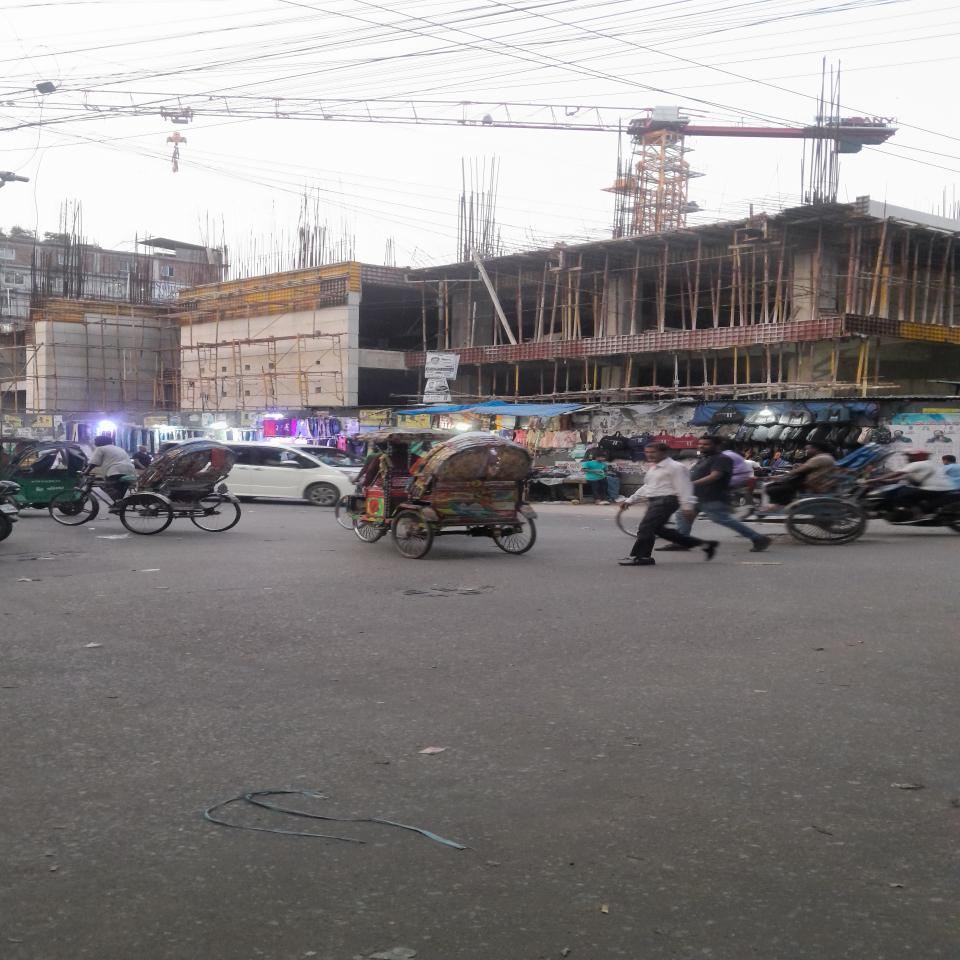person: (654, 437, 771, 559), (619, 442, 718, 567)
